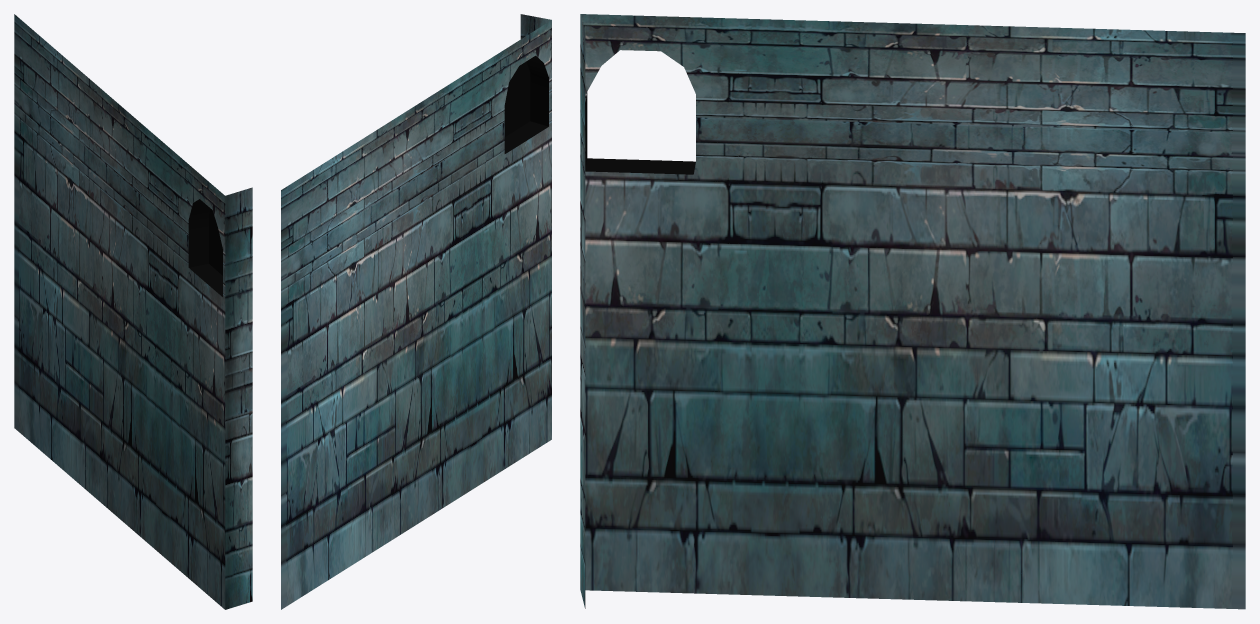
The model's file is Pared_Derecha 2.fbx.
The picture shows the model from 3 angles, left to right: view 1: azimuth 30°, elevation 25°; view 2: azimuth 150°, elevation 25°; view 3: azimuth 270°, elevation 25°; orthographic projection. The views are drawn at different scales.
Visible parts, largest first — view 1: Plane.011; view 2: Plane.011; view 3: Plane.011.
Part boxes in pixels (<box>): Plane.011: <box>14,14,252,609</box>; Plane.011: <box>281,14,551,609</box>; Plane.011: <box>580,14,1245,609</box>.
Bounding box in the file's own units: 165 × 2237 × 2340.
Materials: 2 (1 with a texture image).
